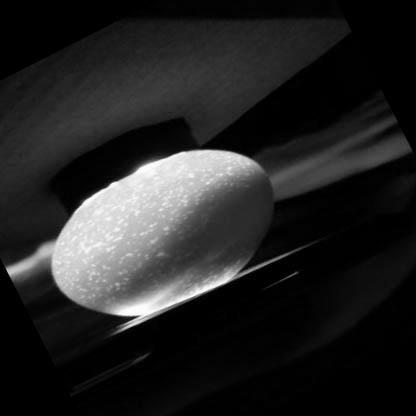telur: (46, 141, 279, 322)
